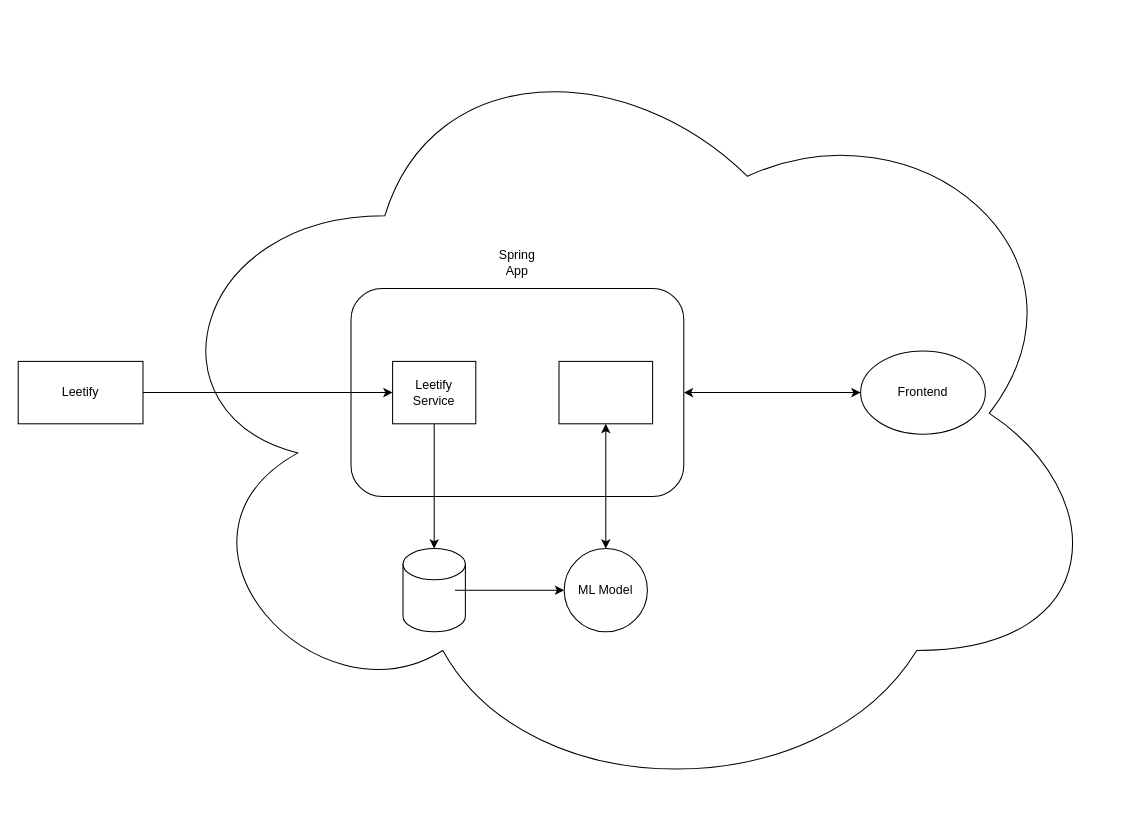
Some shapes in this 1128 by 827 pixel diagram are drawn without their labels. Each missing label, with the centre of its shape:
"ML Service" goes at point (605, 392).
"RDS DATABASE" goes at point (433, 590).
